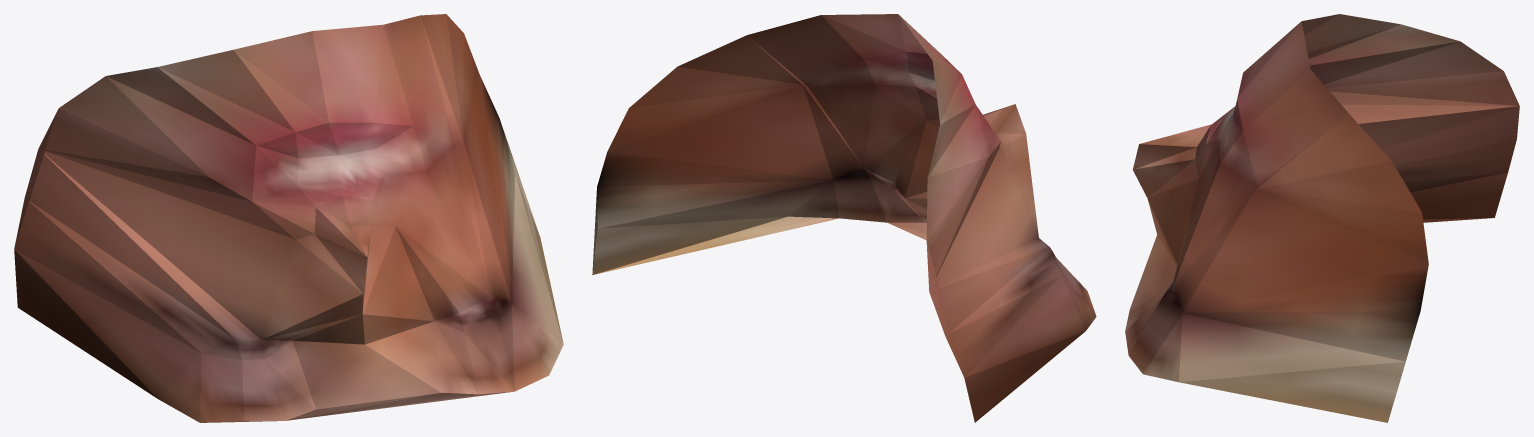
Rendered from fake_6450.obj.
3 renders of one model, left to right at view 1: azimuth 30°, elevation 25°; view 2: azimuth 150°, elevation 25°; view 3: azimuth 270°, elevation 25°, orthographic. The views are drawn at different scales.
Bounding box in the file's own units: 121 × 79 × 98.47.
